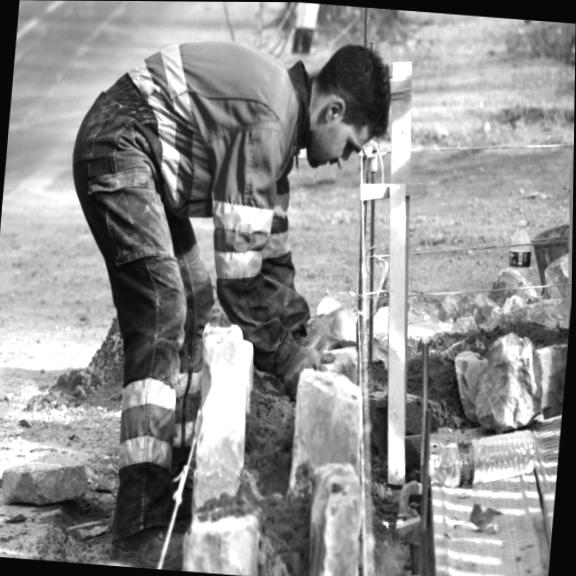safety_vest: (120, 14, 307, 238)
